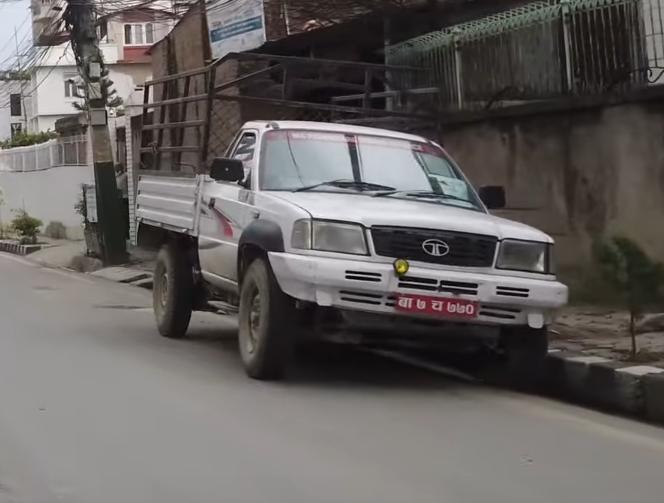transport_vehicle: (126, 37, 576, 399)
